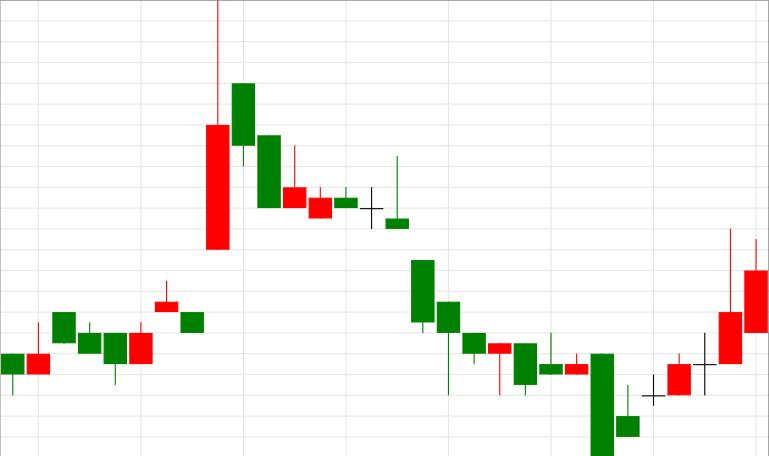hammer_rise: (334, 156, 460, 397)
